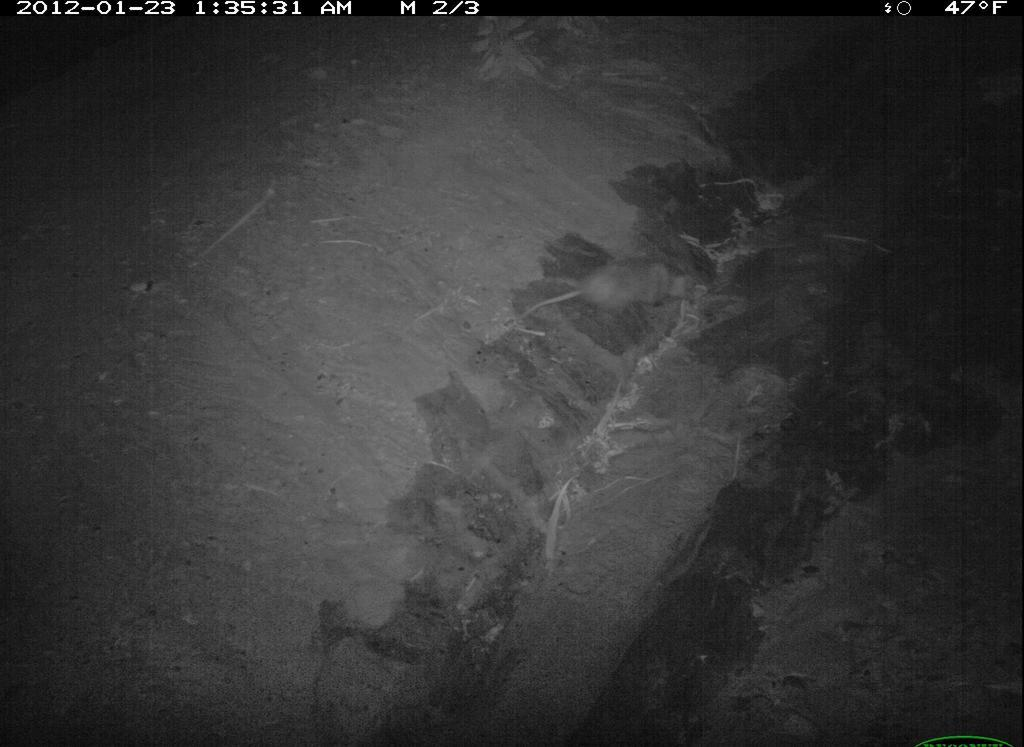opossum: (515, 233, 702, 342)
